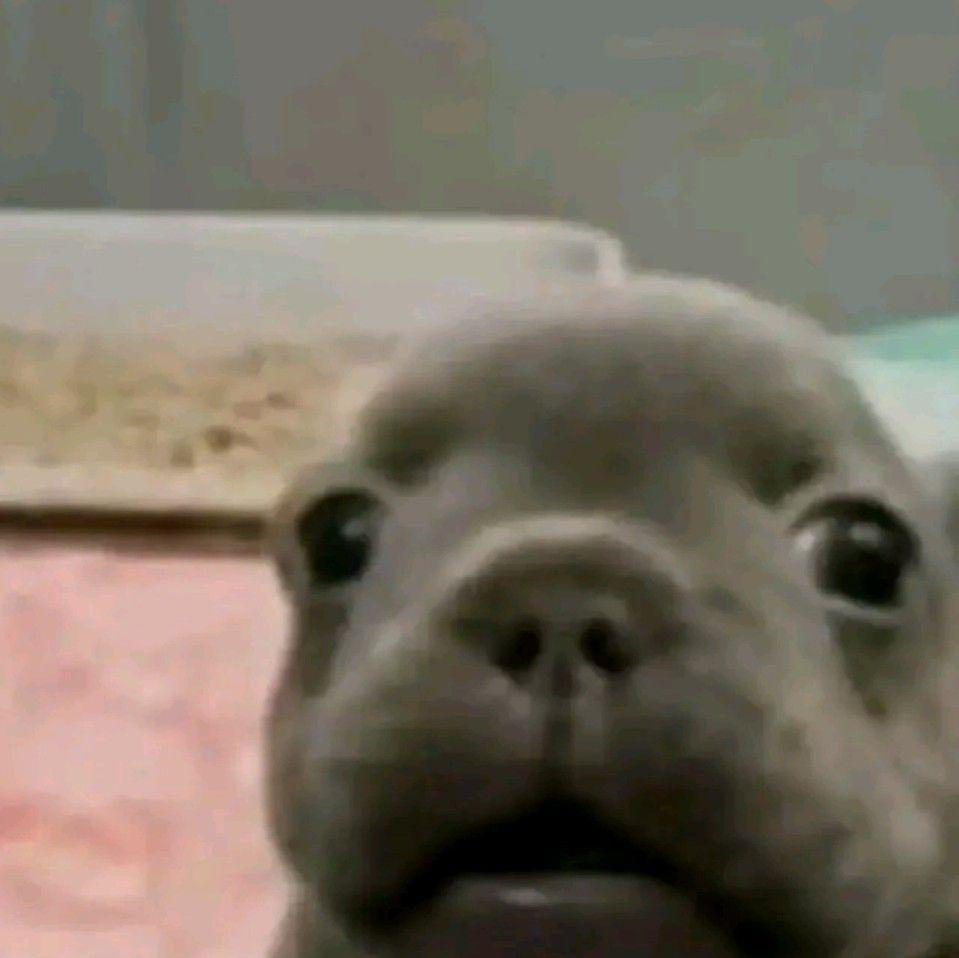puppy-dog: (263, 275, 959, 958)
